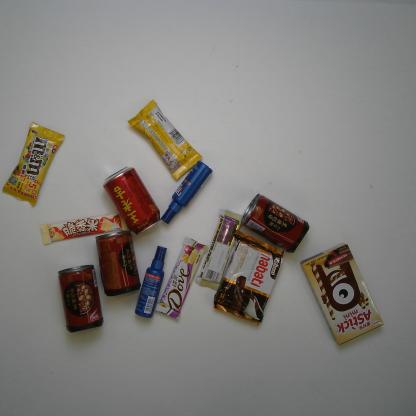Canned Food: (241, 193, 310, 254), (57, 264, 104, 332), (94, 230, 140, 297)
Chocolate: (126, 99, 202, 181), (3, 121, 66, 206), (154, 235, 210, 322), (197, 208, 243, 292), (39, 212, 127, 246)
Dessert: (300, 242, 383, 346), (212, 230, 284, 326)
Drink: (103, 165, 161, 236)
Personal Hygiene: (160, 161, 213, 224), (134, 244, 166, 319)
